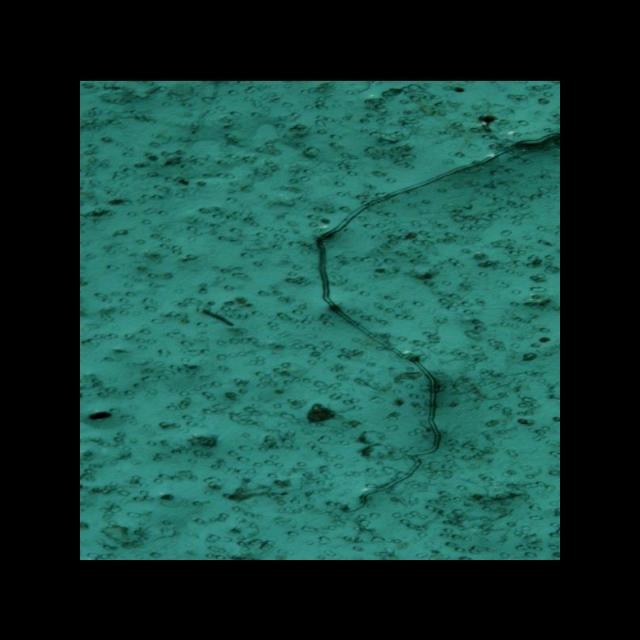Fibre: (312, 131, 560, 513)
